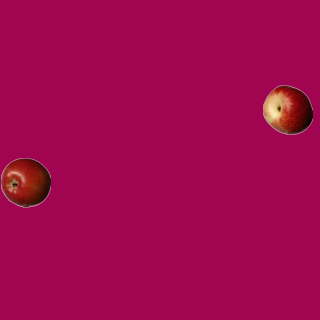Apple Braeburn: (0, 157, 50, 207)
Nectarine: (262, 84, 312, 134)
